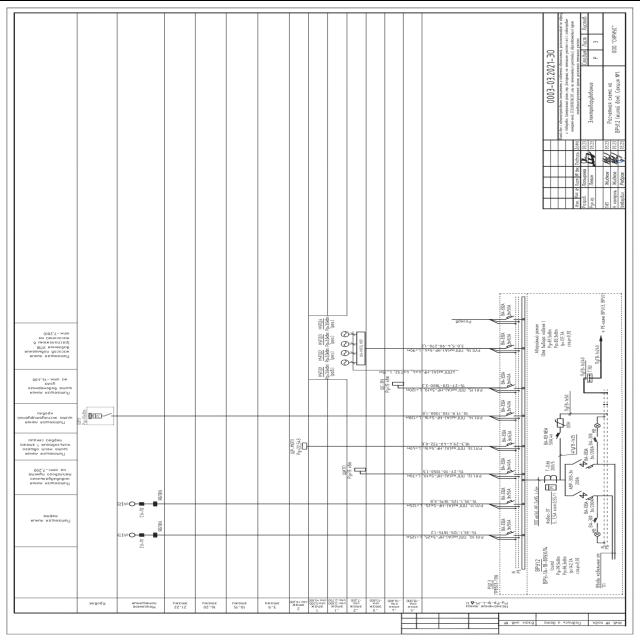-: (544, 490, 558, 524), (542, 426, 554, 446), (542, 546, 548, 584), (583, 498, 595, 514), (583, 445, 595, 461), (544, 458, 556, 471), (588, 514, 594, 528), (588, 432, 592, 444), (565, 420, 571, 428), (590, 427, 596, 433), (592, 528, 596, 532)
AVR: (567, 468, 581, 489)
FV: (554, 417, 566, 427)
HL: (594, 422, 600, 428), (594, 531, 600, 536)
QF: (586, 461, 595, 471), (586, 492, 596, 500), (554, 430, 562, 440), (592, 434, 599, 444), (593, 516, 599, 524)
TT: (543, 473, 558, 483)
WH: (544, 483, 558, 490)
